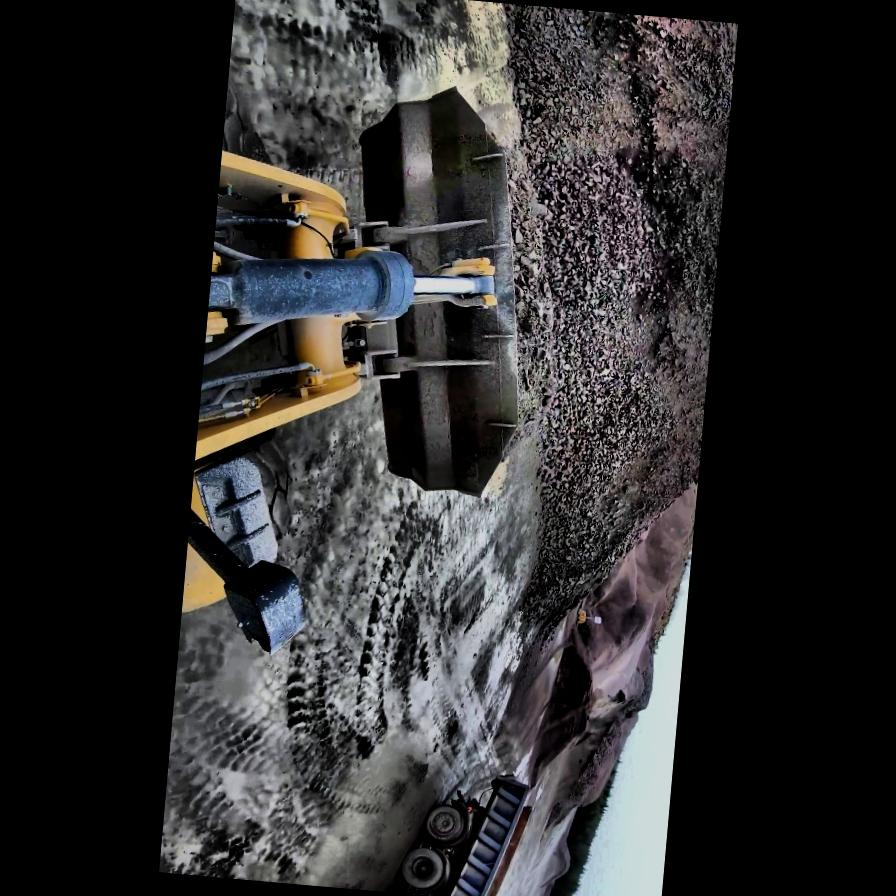anchor: (430, 254, 499, 308)
pile of gravel: (451, 4, 738, 665), (503, 486, 696, 842), (515, 818, 575, 896)
